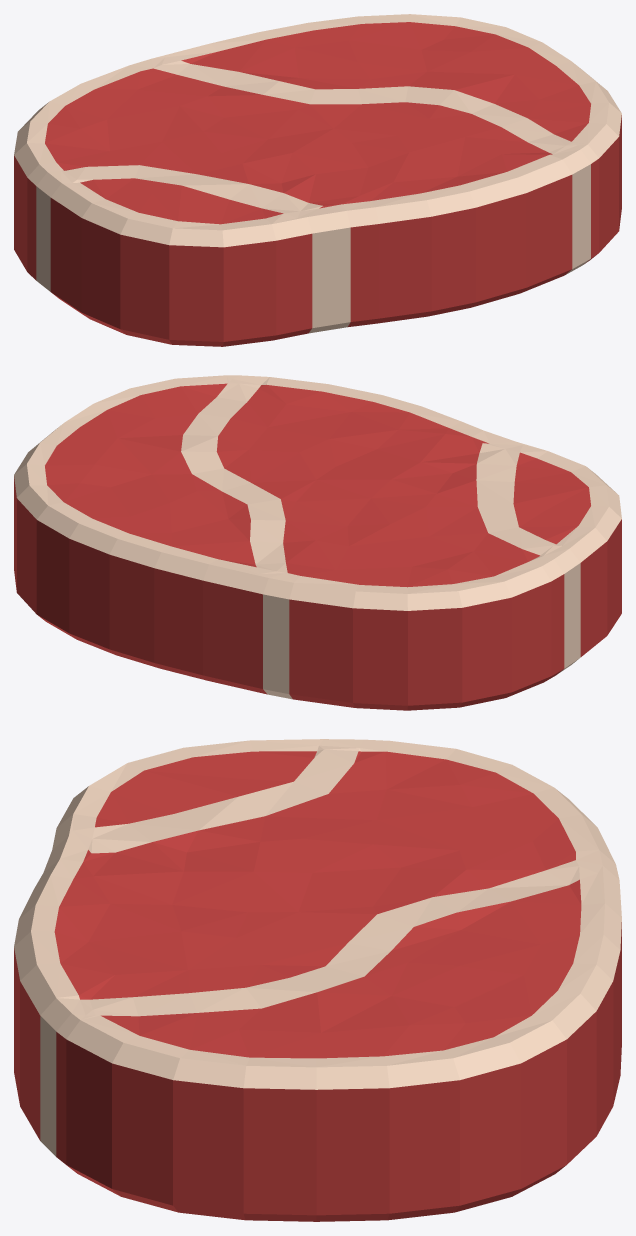
File: KANJI_14_NIKU.fbx
3 views of the same model, one above another, from view 1: azimuth 30°, elevation 25°; view 2: azimuth 150°, elevation 25°; view 3: azimuth 270°, elevation 25° (orthographic). The views are drawn at different scales.
Parts seen in each view (by area): view 1: SM_KANJI_14_Niku; view 2: SM_KANJI_14_Niku; view 3: SM_KANJI_14_Niku.
Boxes of the visible parts, x1,y1,x2,y2 form: SM_KANJI_14_Niku: (14, 14, 621, 346); SM_KANJI_14_Niku: (14, 375, 621, 710); SM_KANJI_14_Niku: (14, 739, 621, 1221).
Size of the model in its own units: 0.24 by 0.05 by 0.18.
